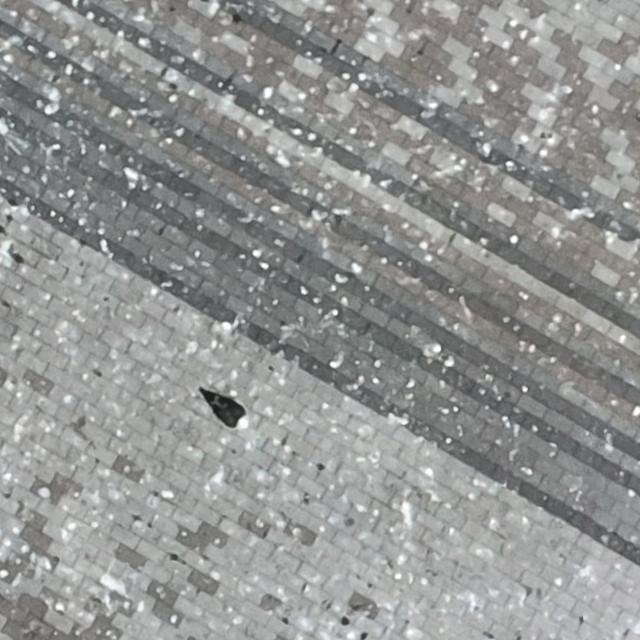umineko: (213, 400, 246, 427)
